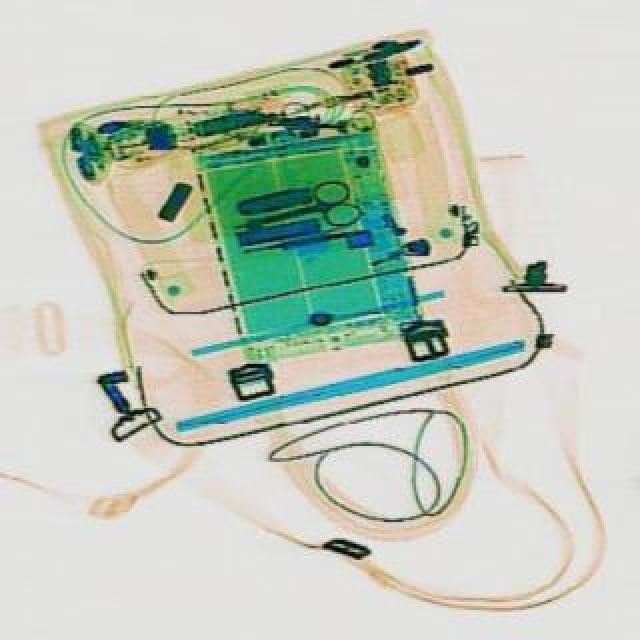pliers: (230, 174, 366, 250)
